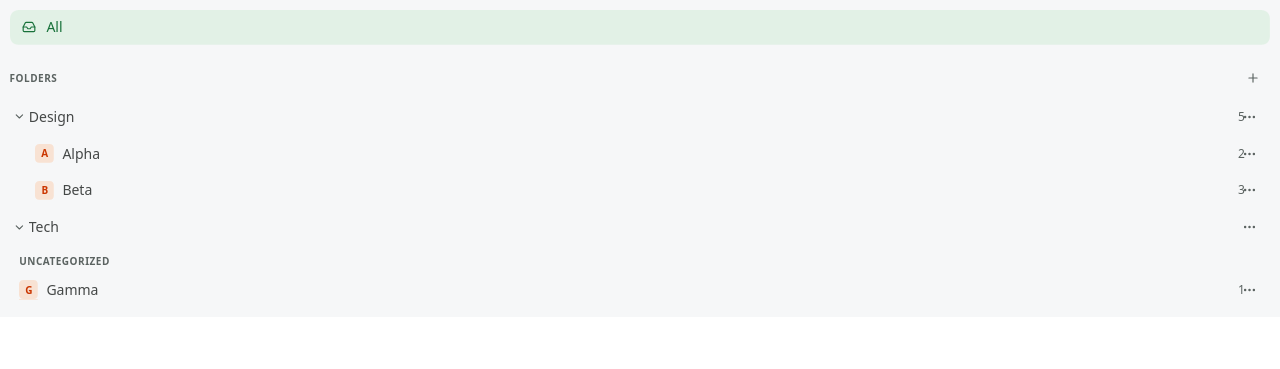
RAD-393: create › keeps the editor value and shows the failure message on a transport error
This screenshot has width=1280, height=369.
Click the button named "New folder" at (1253,78), box left=1235, top=61, right=1270, bottom=96
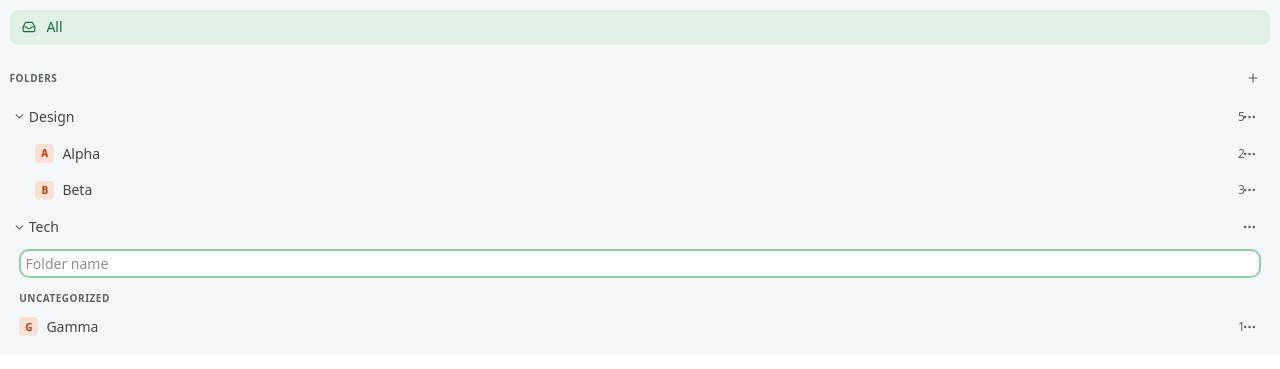
Type "Later" into the field labelled "Folder name" at (640,264), box left=19, top=250, right=1261, bottom=278
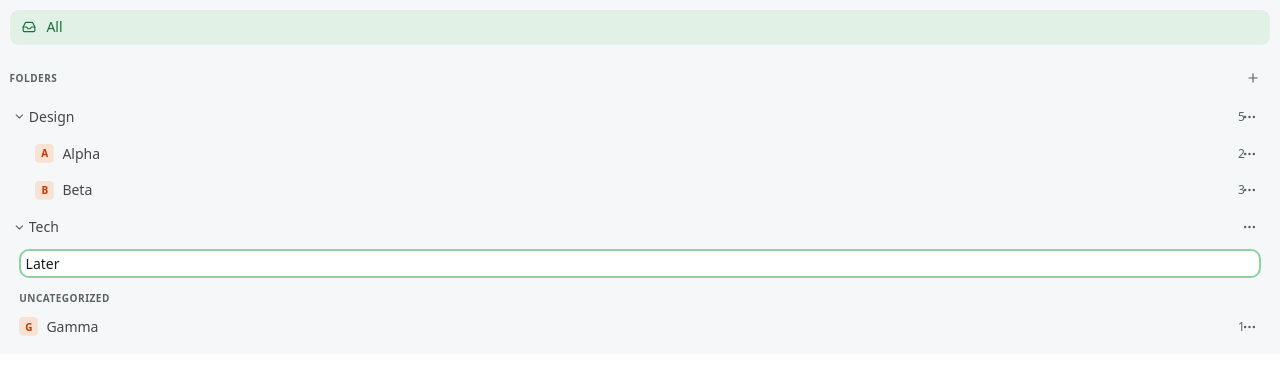
Press Enter
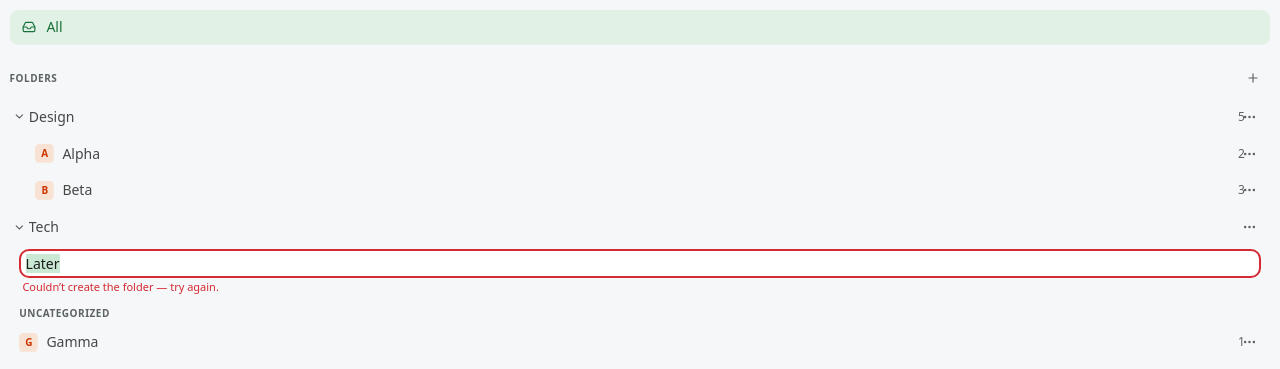
Now the text "Couldn’t create the folder — try again." is shown, box left=22, top=279, right=219, bottom=294
